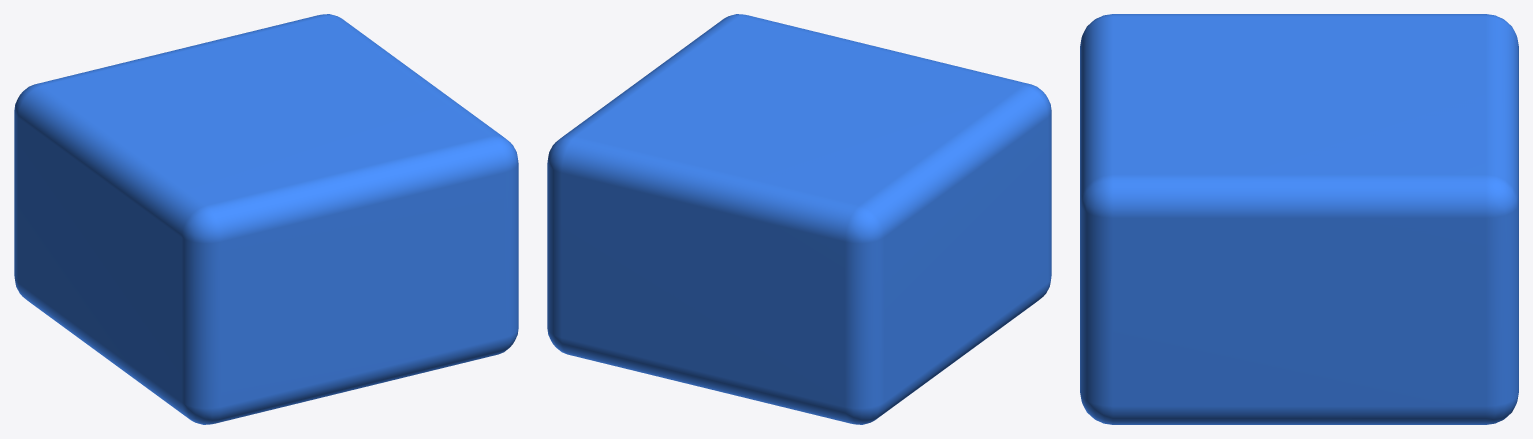
The picture shows the model from 3 angles, left to right: view 1: azimuth 30°, elevation 25°; view 2: azimuth 150°, elevation 25°; view 3: azimuth 270°, elevation 25°; orthographic projection. The views are drawn at different scales.
Parts seen in each view (by area): view 1: PlayerTile; view 2: PlayerTile; view 3: PlayerTile.
Part boxes in pixels (bbox=[...]): PlayerTile: bbox=[14, 14, 518, 424]; PlayerTile: bbox=[547, 14, 1051, 424]; PlayerTile: bbox=[1080, 14, 1518, 424].
Size of the model in its own units: 95 by 59.13 by 95.
